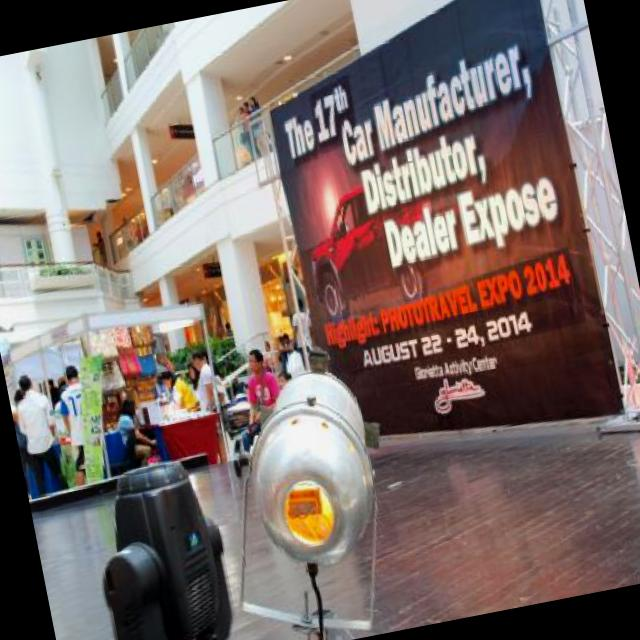Person: (8, 366, 73, 499), (176, 345, 242, 472), (220, 342, 288, 454), (52, 358, 102, 487), (106, 387, 161, 471), (6, 377, 42, 491), (287, 292, 323, 370), (155, 360, 201, 417), (230, 92, 268, 160), (46, 376, 78, 440), (271, 328, 299, 372), (209, 358, 230, 412), (90, 230, 110, 266), (280, 368, 294, 393), (188, 362, 202, 385)
